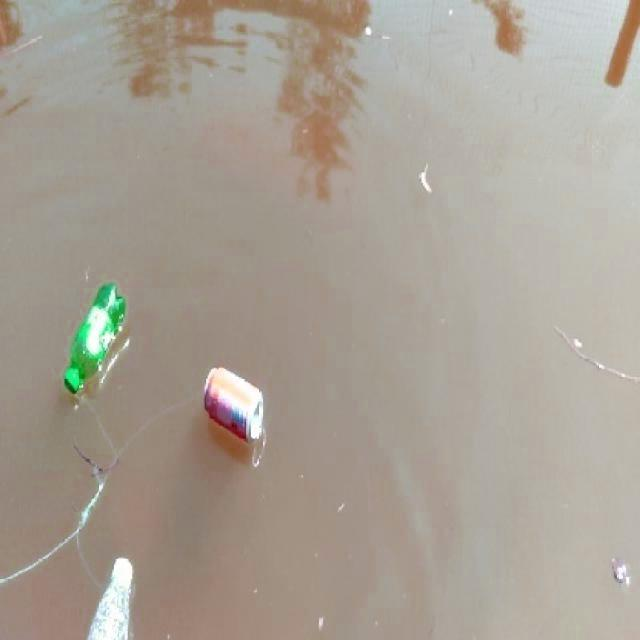Metal: (196, 365, 274, 462)
Plastic: (50, 281, 138, 398), (89, 559, 135, 640)
